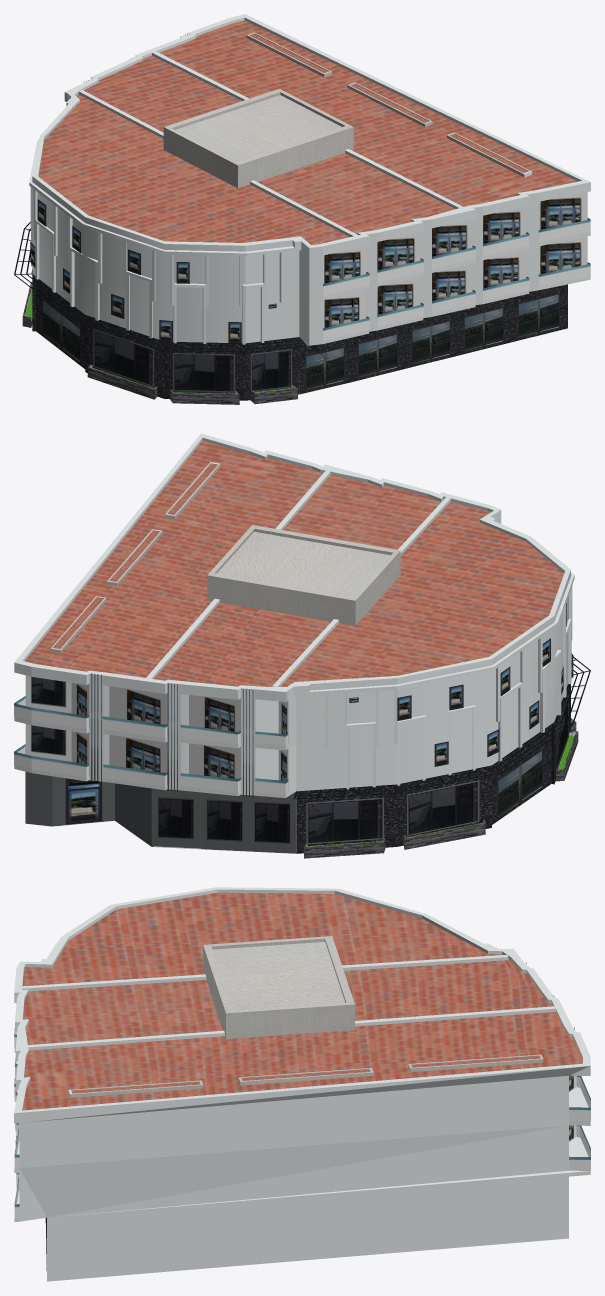
3 renders of one model, top to bottom at view 1: azimuth 30°, elevation 25°; view 2: azimuth 150°, elevation 25°; view 3: azimuth 270°, elevation 25°, orthographic. The views are drawn at different scales.
Visible parts, largest first — view 1: 5b20e6f6b1017c47d4b20172.001; view 2: 5b20e6f6b1017c47d4b20172.001; view 3: 5b20e6f6b1017c47d4b20172.001.
Part boxes in pixels (bbox=[...]): 5b20e6f6b1017c47d4b20172.001: bbox=[14, 14, 590, 404]; 5b20e6f6b1017c47d4b20172.001: bbox=[14, 433, 590, 858]; 5b20e6f6b1017c47d4b20172.001: bbox=[14, 887, 590, 1281].
Bounding box in the file's own units: 31.84 × 12.39 × 33.16.
Materials: 1 (1 with a texture image).
